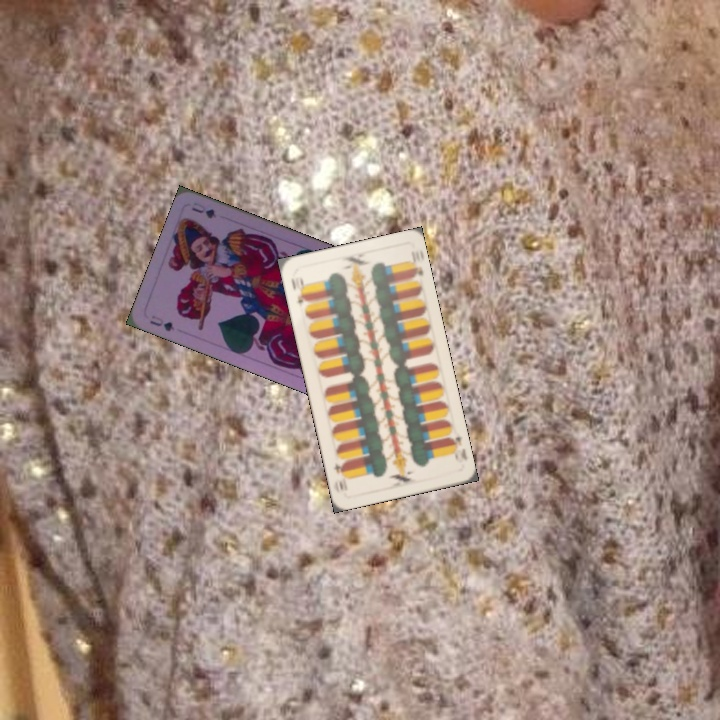E10: (444, 432, 469, 466), (287, 272, 310, 306)
GU: (146, 311, 177, 334)
